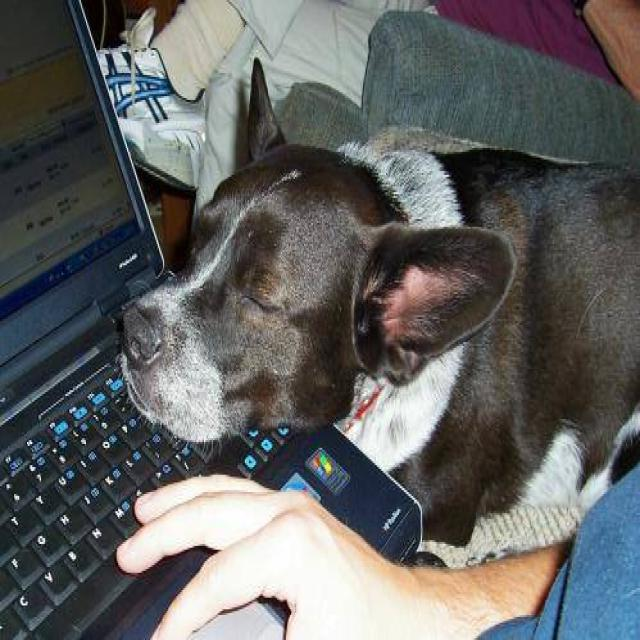dog: (116, 56, 638, 563)
